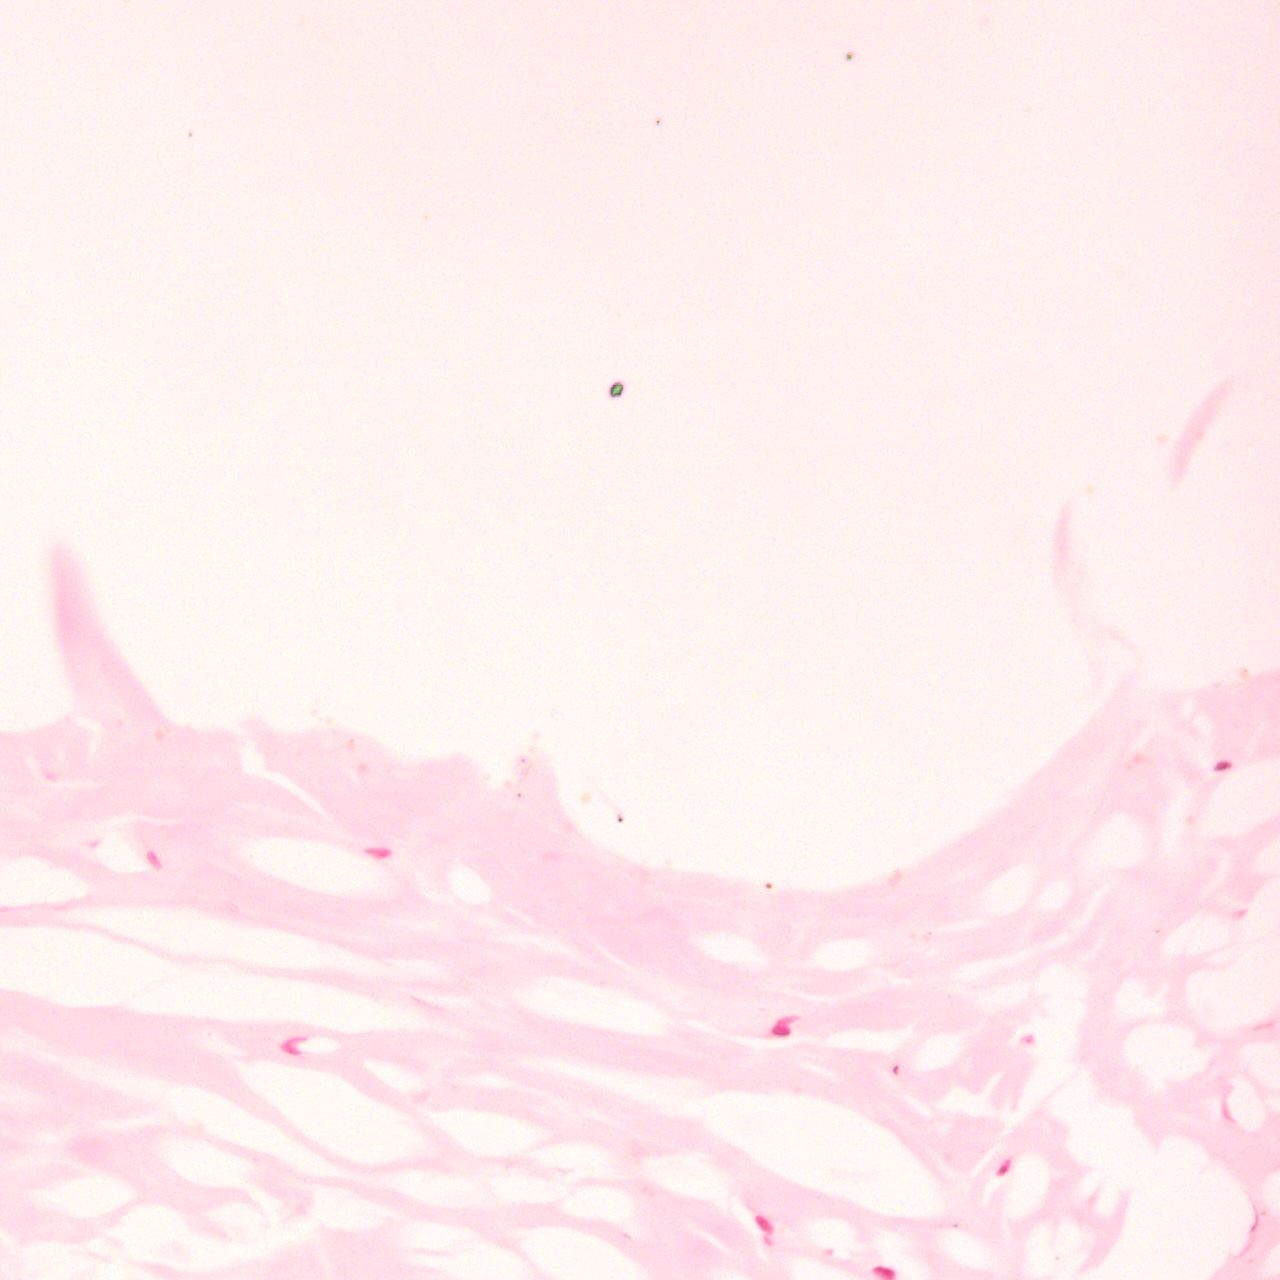dust: (609, 382, 623, 398), (654, 117, 662, 126), (844, 52, 852, 61), (892, 1065, 899, 1075), (187, 131, 194, 138), (765, 882, 771, 889), (617, 816, 623, 823), (515, 792, 522, 798), (952, 1223, 958, 1228)
nucleus-AC: (767, 1007, 804, 1042), (750, 1210, 778, 1240), (279, 1036, 309, 1056), (142, 848, 165, 873), (994, 1157, 1013, 1180), (364, 846, 394, 860), (1210, 758, 1233, 775)
